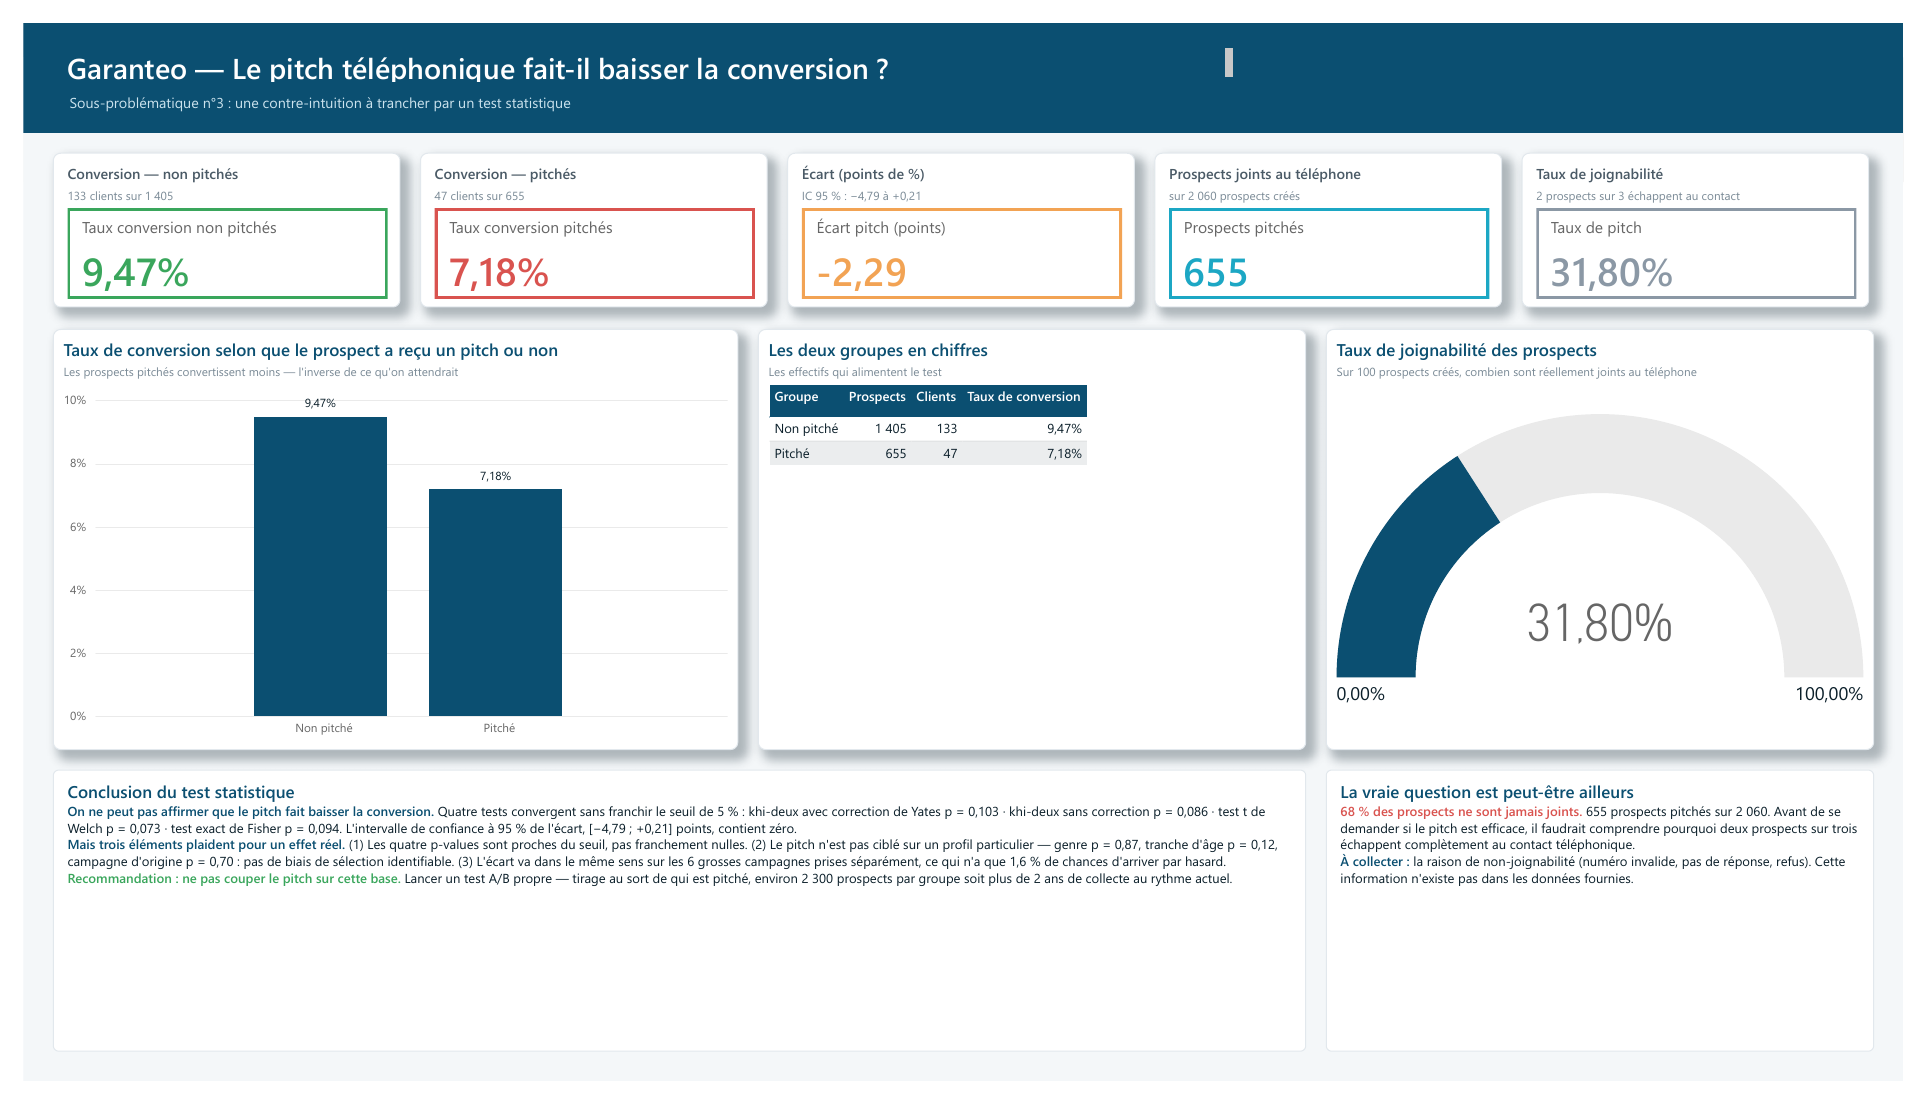

What the dashboard file says about the page in this screenshot:
{"tool":"powerbi","page":{"name":"4 · Le pitch téléphonique","canvas":[1920,1080],"ordinal":3},"visuals":[{"type":"shape","box":[0,0,1920,112],"z":0},{"type":"cardVisual","title":"Conversion — non pitchés","fields":{"Data":["_Mesures.Taux conversion non pitchés"]},"box":[30,132,355,158],"z":1000},{"type":"cardVisual","title":"Conversion — pitchés","fields":{"Data":["_Mesures.Taux conversion pitchés"]},"box":[405,132,355,158],"z":2000},{"type":"cardVisual","title":"Écart (points de %)","fields":{"Data":["_Mesures.Écart pitch (points)"]},"box":[780,132,355,158],"z":3000},{"type":"cardVisual","title":"Prospects joints au téléphone","fields":{"Data":["_Mesures.Prospects pitchés"]},"box":[1155,132,355,158],"z":4000},{"type":"cardVisual","title":"Taux de joignabilité","fields":{"Data":["_Mesures.Taux de pitch"]},"box":[1530,132,355,158],"z":5000},{"type":"clusteredColumnChart","title":"Taux de conversion selon que le prospect a reçu un pitch ou non","fields":{"Category":["PitchTest.groupe"],"Y":["Average(PitchTest.taux_conversion)"]},"box":[30,312,700,430],"z":6000},{"type":"tableEx","title":"Les deux groupes en chiffres","fields":{"Values":["PitchTest.groupe","Sum(PitchTest.nb_prospects)","Sum(PitchTest.nb_clients)","Average(PitchTest.taux_conversion)"]},"box":[750,312,560,430],"z":7000},{"type":"gauge","title":"Taux de joignabilité des prospects","fields":{"Y":["_Mesures.Taux de pitch"]},"box":[1330,312,560,430],"z":8000},{"type":"textbox","box":[30,762,1280,288],"z":9000},{"type":"textbox","box":[1330,762,560,288],"z":10000},{"type":"textbox","box":[40,20,1200,44],"z":11000},{"type":"textbox","box":[42,66,1400,30],"z":12000}]}

Visuals, with their boxes in screenshot pixels (x1, y1, x2, y2), scaled from the page's 1920x1080 canvas onto the 1927x1105 screenshot:
shape: 0/0/1926/115
"Conversion — non pitchés" cardVisual: 30/135/386/297
"Conversion — pitchés" cardVisual: 406/135/763/297
"Écart (points de %)" cardVisual: 783/135/1139/297
"Prospects joints au téléphone" cardVisual: 1159/135/1516/297
"Taux de joignabilité" cardVisual: 1536/135/1892/297
"Taux de conversion selon que le prospect a reçu un pitch ou non" clusteredColumnChart: 30/319/733/759
"Les deux groupes en chiffres" tableEx: 753/319/1315/759
"Taux de joignabilité des prospects" gauge: 1335/319/1897/759
textbox: 30/780/1315/1074
textbox: 1335/780/1897/1074
textbox: 40/20/1245/65
textbox: 42/68/1447/98
